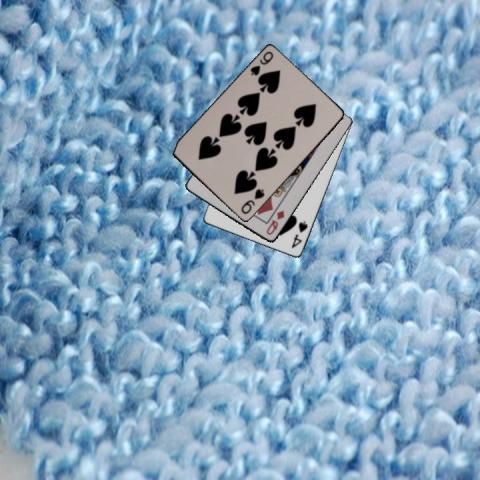4s: (289, 218, 309, 250)
9s: (238, 186, 266, 216), (247, 49, 275, 77)
Qd: (263, 207, 286, 237)
